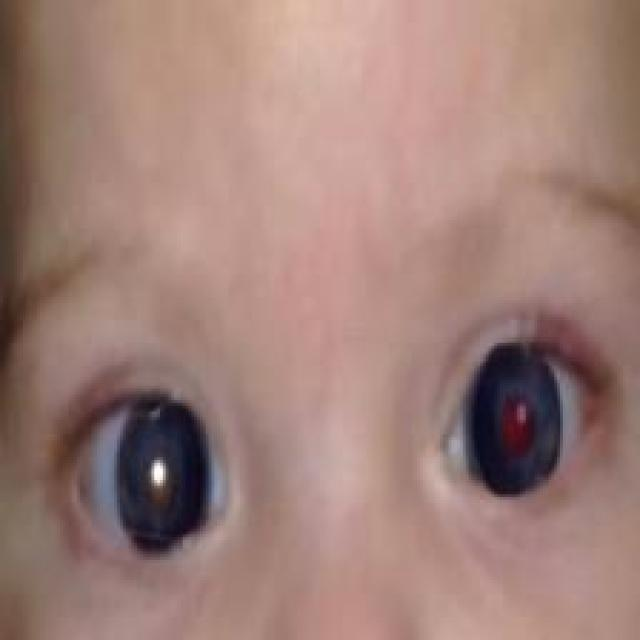reflexo-alterado: (65, 364, 234, 576)
reflexo-normal: (432, 331, 596, 513)
